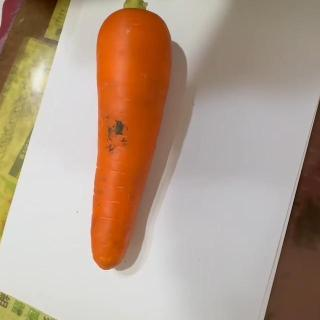carrot: (90, 0, 170, 271)
